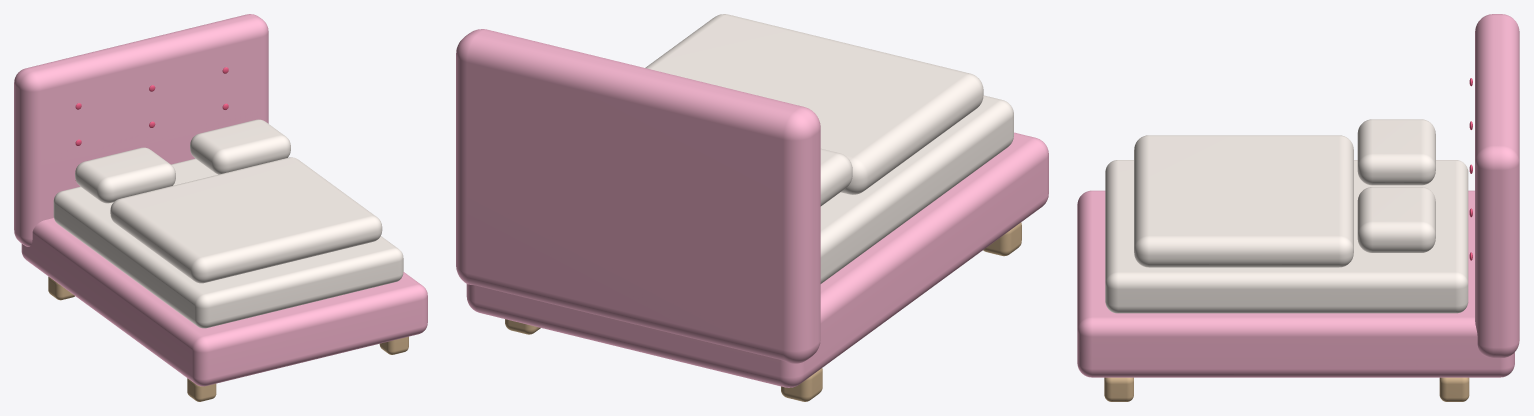
File: 可爱粉色软包床.fbx
The picture shows the model from 3 angles, left to right: view 1: azimuth 30°, elevation 25°; view 2: azimuth 150°, elevation 25°; view 3: azimuth 270°, elevation 25°; orthographic projection. The views are drawn at different scales.
Parts seen in each view (by area): view 1: 可爱粉色软包床_靠背, 可爱粉色软包床_圆角床架, 可爱粉色软包床_奶油被子, 可爱粉色软包床_厚床垫, 可爱粉色软包床_左枕头, 可爱粉色软包床_右枕头, 可爱粉色软包床_短圆木脚, 可爱粉色软包床_短圆木脚.002; view 2: 可爱粉色软包床_靠背, 可爱粉色软包床_圆角床架, 可爱粉色软包床_奶油被子, 可爱粉色软包床_厚床垫, 可爱粉色软包床_左枕头, 可爱粉色软包床_短圆木脚.001, 可爱粉色软包床_短圆木脚; view 3: 可爱粉色软包床_圆角床架, 可爱粉色软包床_奶油被子, 可爱粉色软包床_厚床垫, 可爱粉色软包床_靠背, 可爱粉色软包床_左枕头, 可爱粉色软包床_右枕头, 可爱粉色软包床_短圆木脚.003, 可爱粉色软包床_短圆木脚.002.
Boxes of the visible parts, x1,y1,x2,y2 form: 可爱粉色软包床_靠背: [14, 14, 268, 246]; 可爱粉色软包床_圆角床架: [21, 218, 427, 386]; 可爱粉色软包床_奶油被子: [110, 157, 382, 283]; 可爱粉色软包床_厚床垫: [53, 158, 403, 328]; 可爱粉色软包床_左枕头: [75, 147, 175, 203]; 可爱粉色软包床_右枕头: [190, 119, 290, 174]; 可爱粉色软包床_短圆木脚: [187, 378, 216, 401]; 可爱粉色软包床_短圆木脚.002: [379, 336, 408, 354]; 可爱粉色软包床_靠背: [456, 29, 820, 363]; 可爱粉色软包床_圆角床架: [466, 132, 1048, 387]; 可爱粉色软包床_奶油被子: [645, 14, 983, 194]; 可爱粉色软包床_厚床垫: [820, 95, 1013, 283]; 可爱粉色软包床_左枕头: [820, 148, 852, 206]; 可爱粉色软包床_短圆木脚.001: [781, 368, 822, 401]; 可爱粉色软包床_短圆木脚: [983, 222, 1021, 256]; 可爱粉色软包床_圆角床架: [1077, 190, 1514, 377]; 可爱粉色软包床_奶油被子: [1134, 135, 1353, 267]; 可爱粉色软包床_厚床垫: [1105, 160, 1468, 313]; 可爱粉色软包床_靠背: [1475, 14, 1519, 358]; 可爱粉色软包床_左枕头: [1357, 119, 1435, 185]; 可爱粉色软包床_右枕头: [1357, 187, 1435, 252]; 可爱粉色软包床_短圆木脚.003: [1439, 377, 1469, 401]; 可爱粉色软包床_短圆木脚.002: [1104, 377, 1133, 401].
Bounding box in the file's own units: 185 × 155 × 238.
